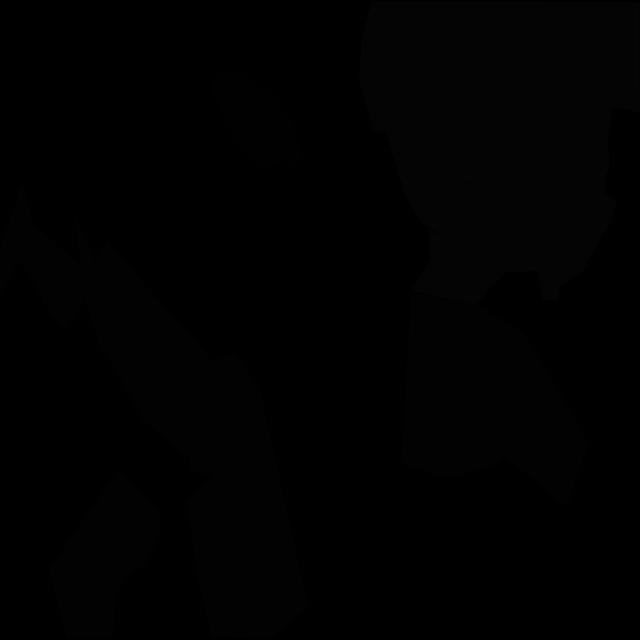cardboard: (74, 214, 247, 475), (401, 292, 589, 508), (187, 352, 308, 639), (48, 470, 162, 639), (0, 183, 84, 333)
rigid_plastic: (212, 68, 302, 173)
soft_plastic: (420, 2, 640, 302), (359, 1, 634, 221), (411, 228, 514, 305)
